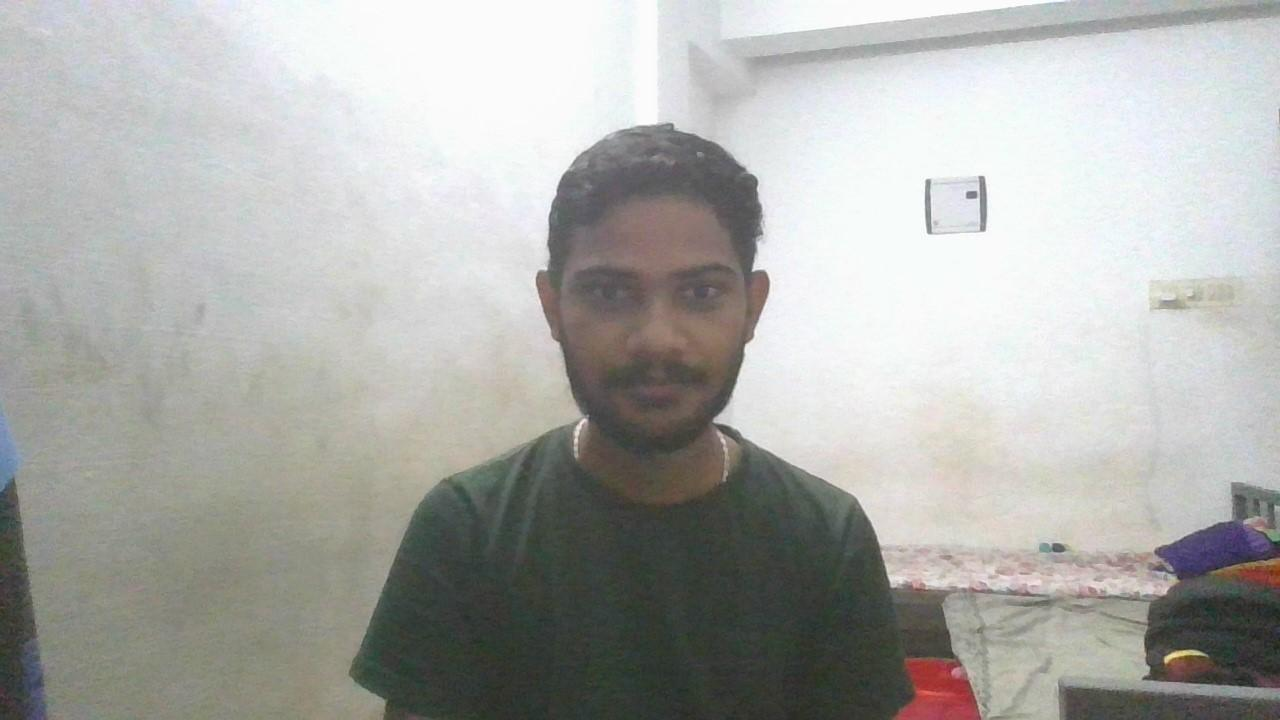nohelmet: (536, 123, 771, 461)
